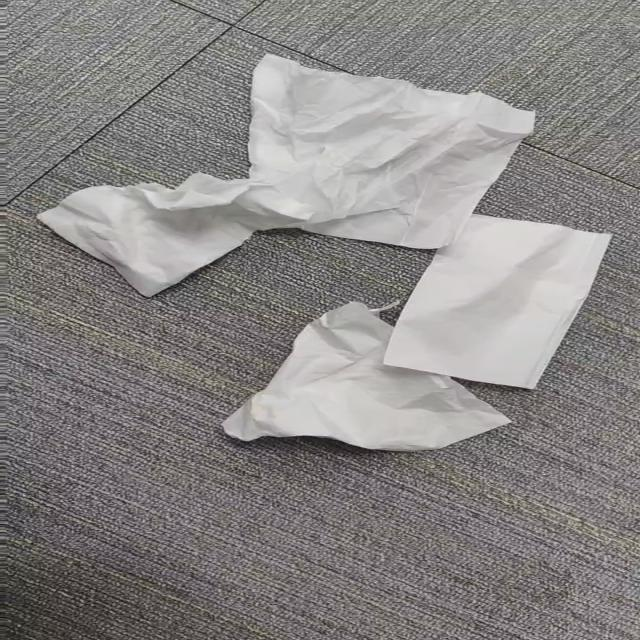paper: (38, 55, 532, 296), (222, 302, 510, 451), (385, 215, 609, 388)
